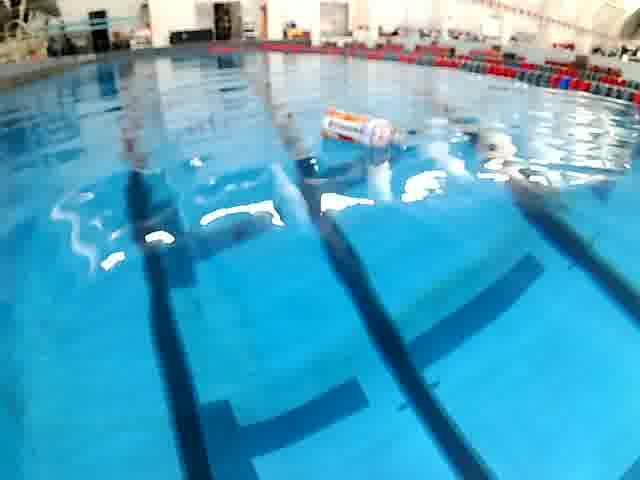Bottle: (316, 102, 416, 152)
